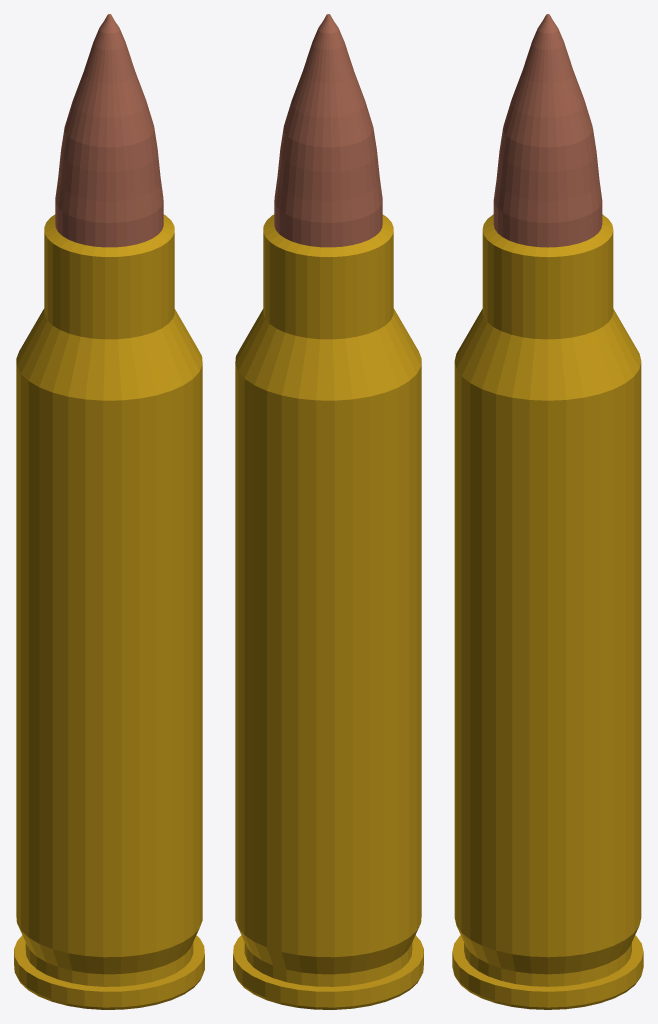
File: bullet_m4a1.fbx
3 renders of one model, left to right at view 1: azimuth 30°, elevation 25°; view 2: azimuth 150°, elevation 25°; view 3: azimuth 270°, elevation 25°, orthographic.
Visible parts, largest first — view 1: Cylinder, Cylinder.001; view 2: Cylinder, Cylinder.001; view 3: Cylinder, Cylinder.001.
Boxes of the visible parts, box(x1,y1,x2,y2) form: Cylinder: box(14, 214, 204, 1009); Cylinder.001: box(55, 14, 163, 247); Cylinder: box(233, 214, 423, 1009); Cylinder.001: box(274, 14, 382, 247); Cylinder: box(452, 214, 643, 1009); Cylinder.001: box(493, 14, 602, 247).
Size of the model in its own units: 91.2 by 504 by 91.2.
